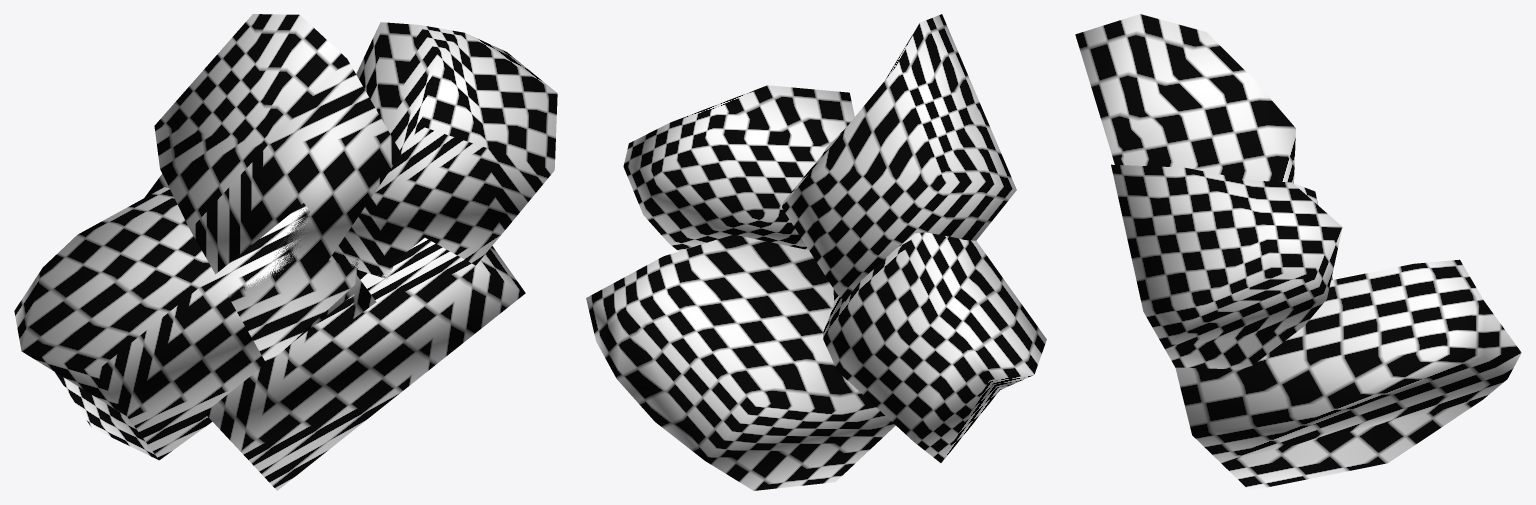
The model's file is initlimt17.dae.
3 views of the same model, side by side, from view 1: azimuth 30°, elevation 25°; view 2: azimuth 150°, elevation 25°; view 3: azimuth 270°, elevation 25° (orthographic). The views are drawn at different scales.
Parts seen in each view (by area): view 1: item; view 2: item; view 3: item.
Boxes of the visible parts, bbox=[...] form: item: bbox=[14, 14, 557, 490]; item: bbox=[586, 14, 1046, 490]; item: bbox=[1075, 14, 1521, 490].
Bounding box in the file's own units: 1.52 × 1.34 × 1.52.
1 material, 1 textured.
